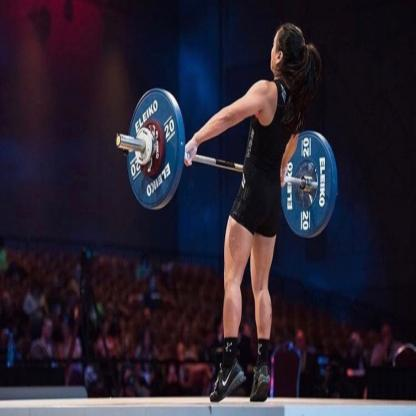barbell: (127, 90, 181, 210), (279, 130, 336, 240)
